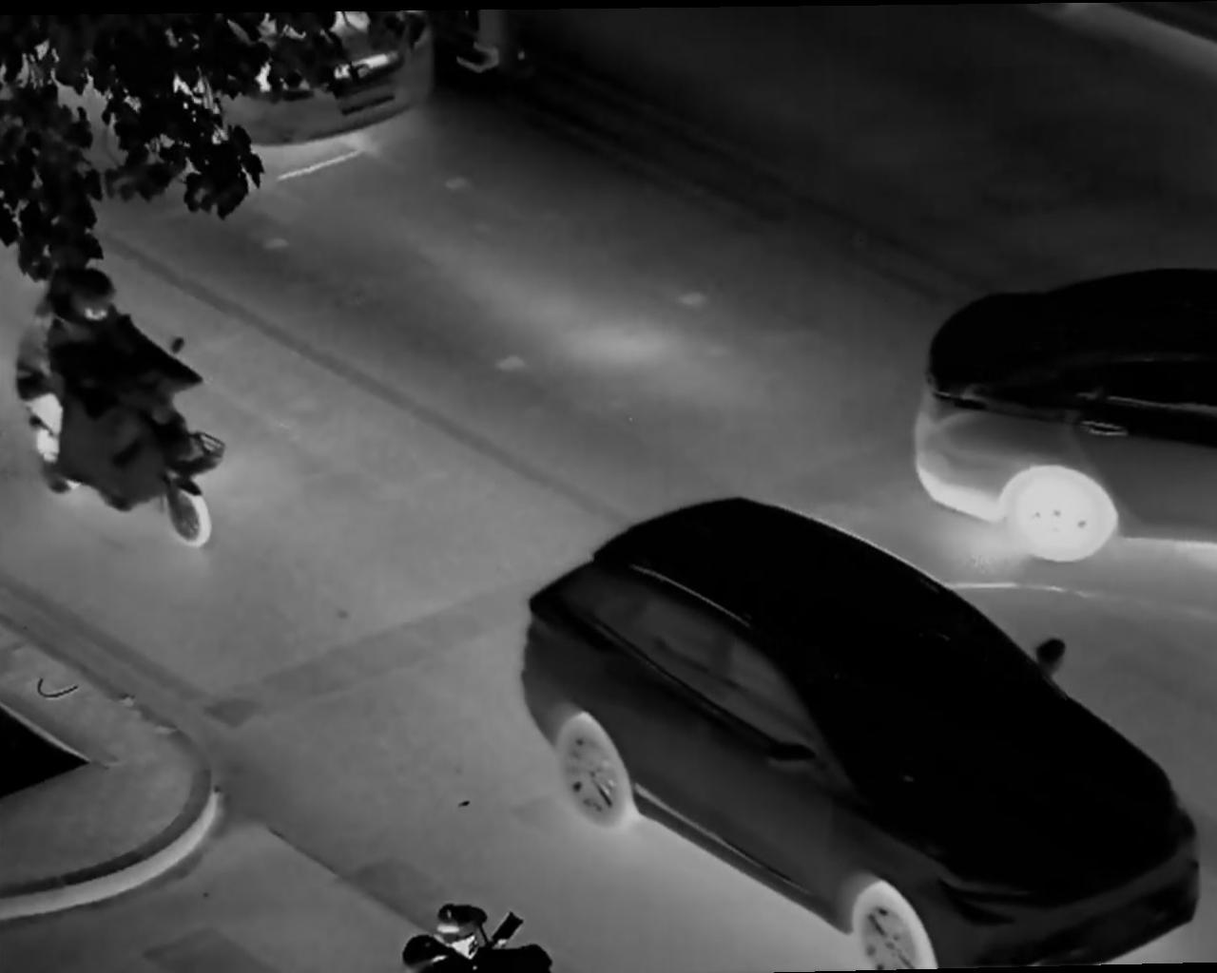person: (23, 267, 148, 544)
